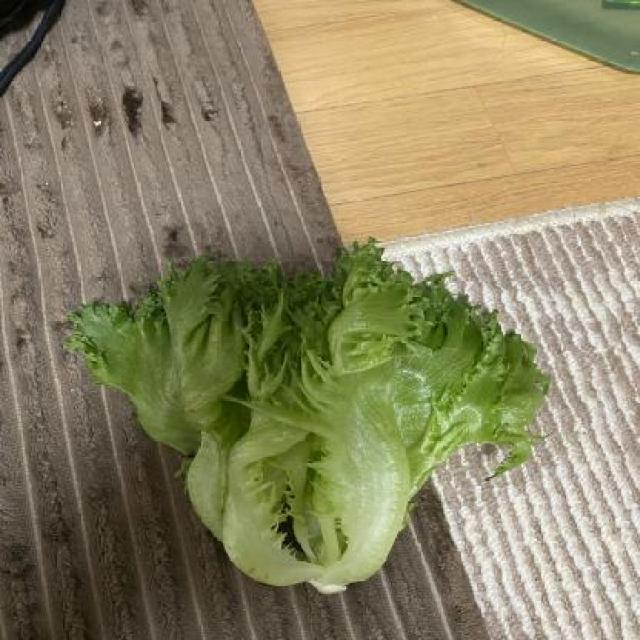Lettuce: (69, 229, 558, 600)
